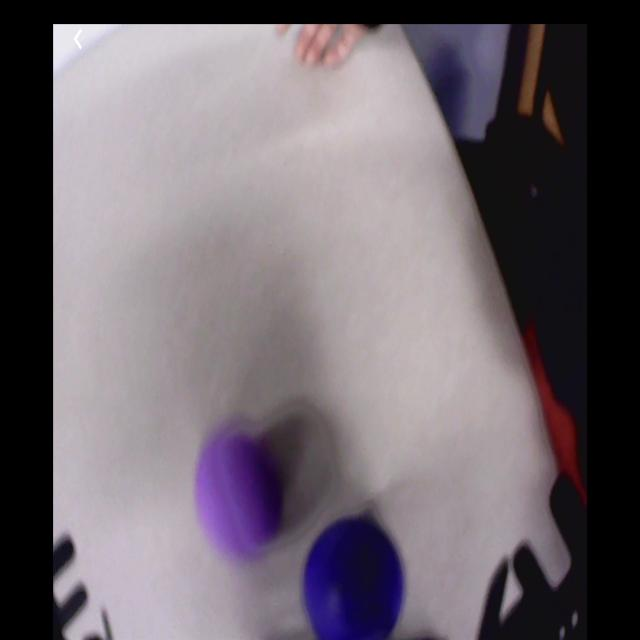ball: (304, 516, 406, 640), (197, 430, 280, 559)
